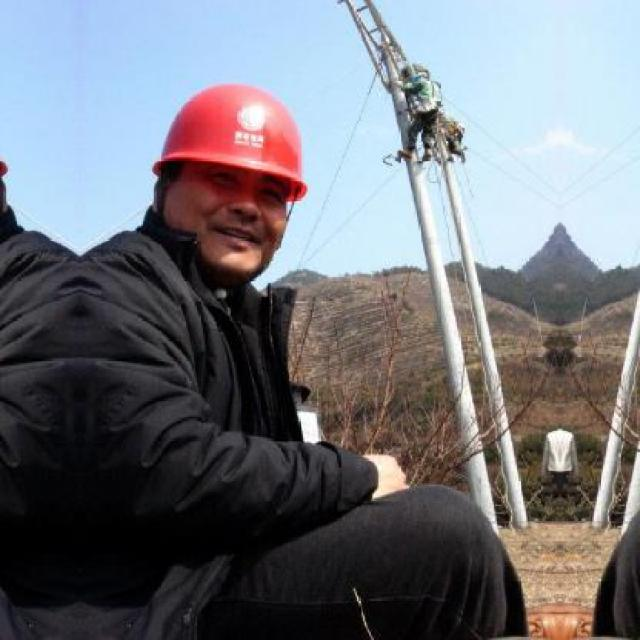helmet: (138, 60, 332, 282)
